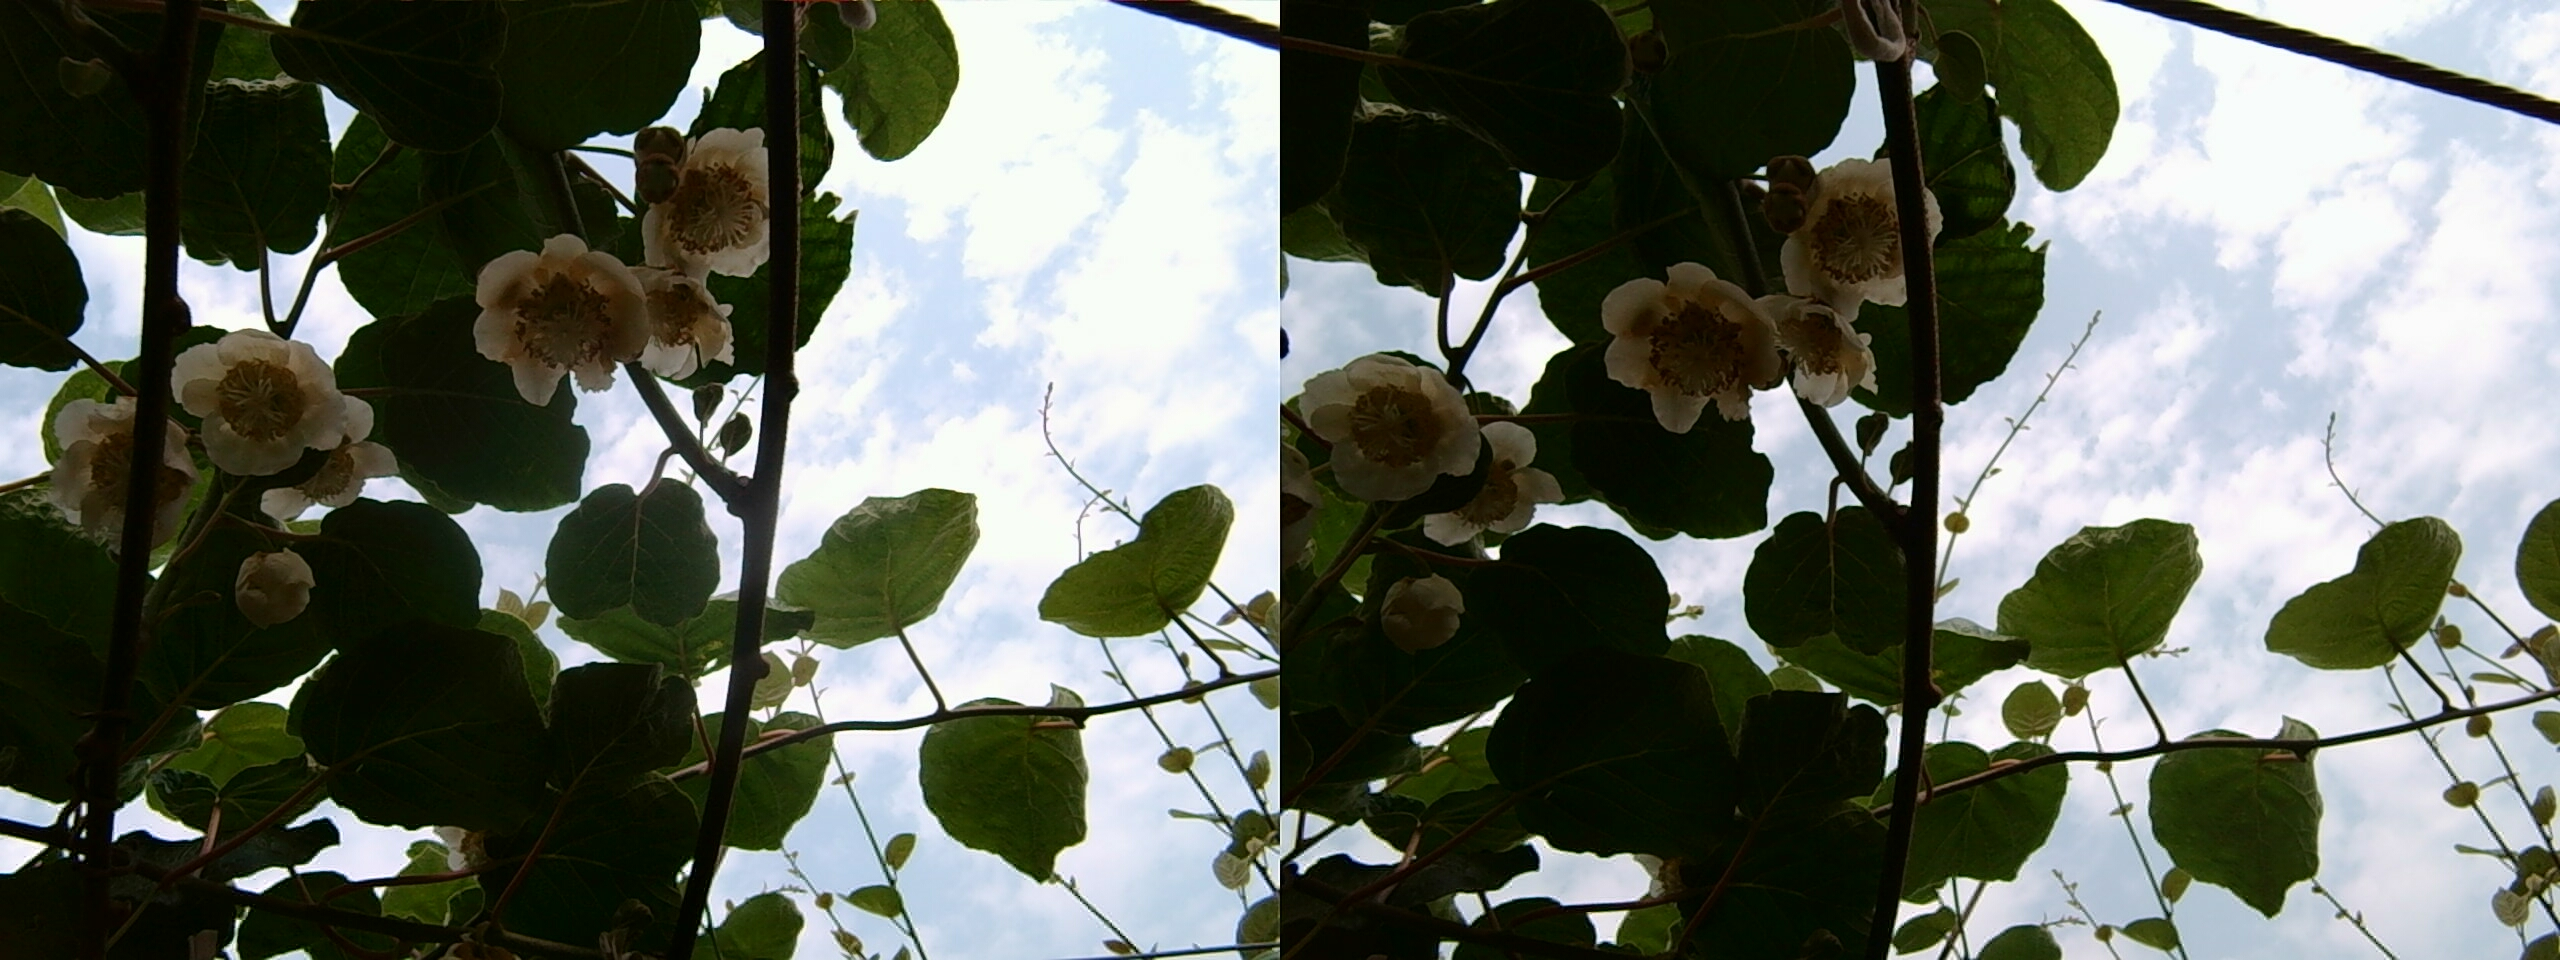flower: (1593, 261, 1843, 424), (465, 229, 705, 397), (1295, 349, 1487, 508), (163, 327, 364, 477), (1749, 149, 1923, 315), (627, 121, 776, 286), (51, 397, 193, 534), (1739, 286, 1871, 397)
